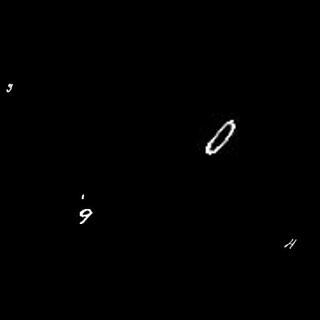dot: (74, 189, 91, 202)
four: (281, 237, 301, 254)
nine: (78, 207, 96, 226)
three: (5, 79, 17, 96)
zero: (201, 117, 240, 156)
